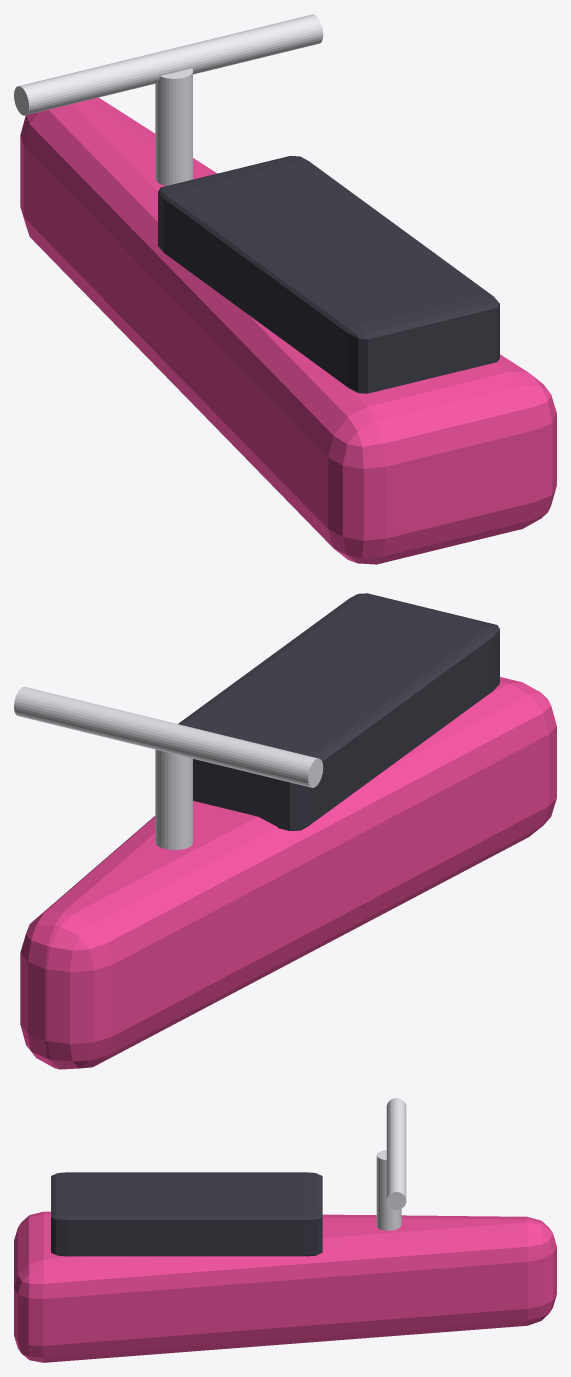
The model's file is jetski.glb.
The picture shows the model from 3 angles, top to bottom: view 1: azimuth 30°, elevation 25°; view 2: azimuth 150°, elevation 25°; view 3: azimuth 270°, elevation 25°; orthographic projection. The views are drawn at different scales.
Visible parts, largest first — view 1: Rumpf, Cube, Cylinder, Cylinder.001; view 2: Rumpf, Cube, Cylinder, Cylinder.001; view 3: Rumpf, Cube, Cylinder, Cylinder.001.
Part boxes in pixels (<box>): Rumpf: <box>20,97,556,564</box>; Cube: <box>158,156,499,393</box>; Cylinder: <box>14,14,323,115</box>; Cylinder.001: <box>155,68,192,185</box>; Rumpf: <box>20,677,556,1069</box>; Cube: <box>178,593,499,830</box>; Cylinder: <box>14,686,323,787</box>; Cylinder.001: <box>155,749,192,849</box>; Rumpf: <box>14,1211,556,1362</box>; Cube: <box>51,1172,322,1256</box>; Cylinder: <box>386,1098,406,1209</box>; Cylinder.001: <box>376,1150,401,1230</box>.
Bounding box in the file's own units: 0.9 × 0.8606 × 2.2.
